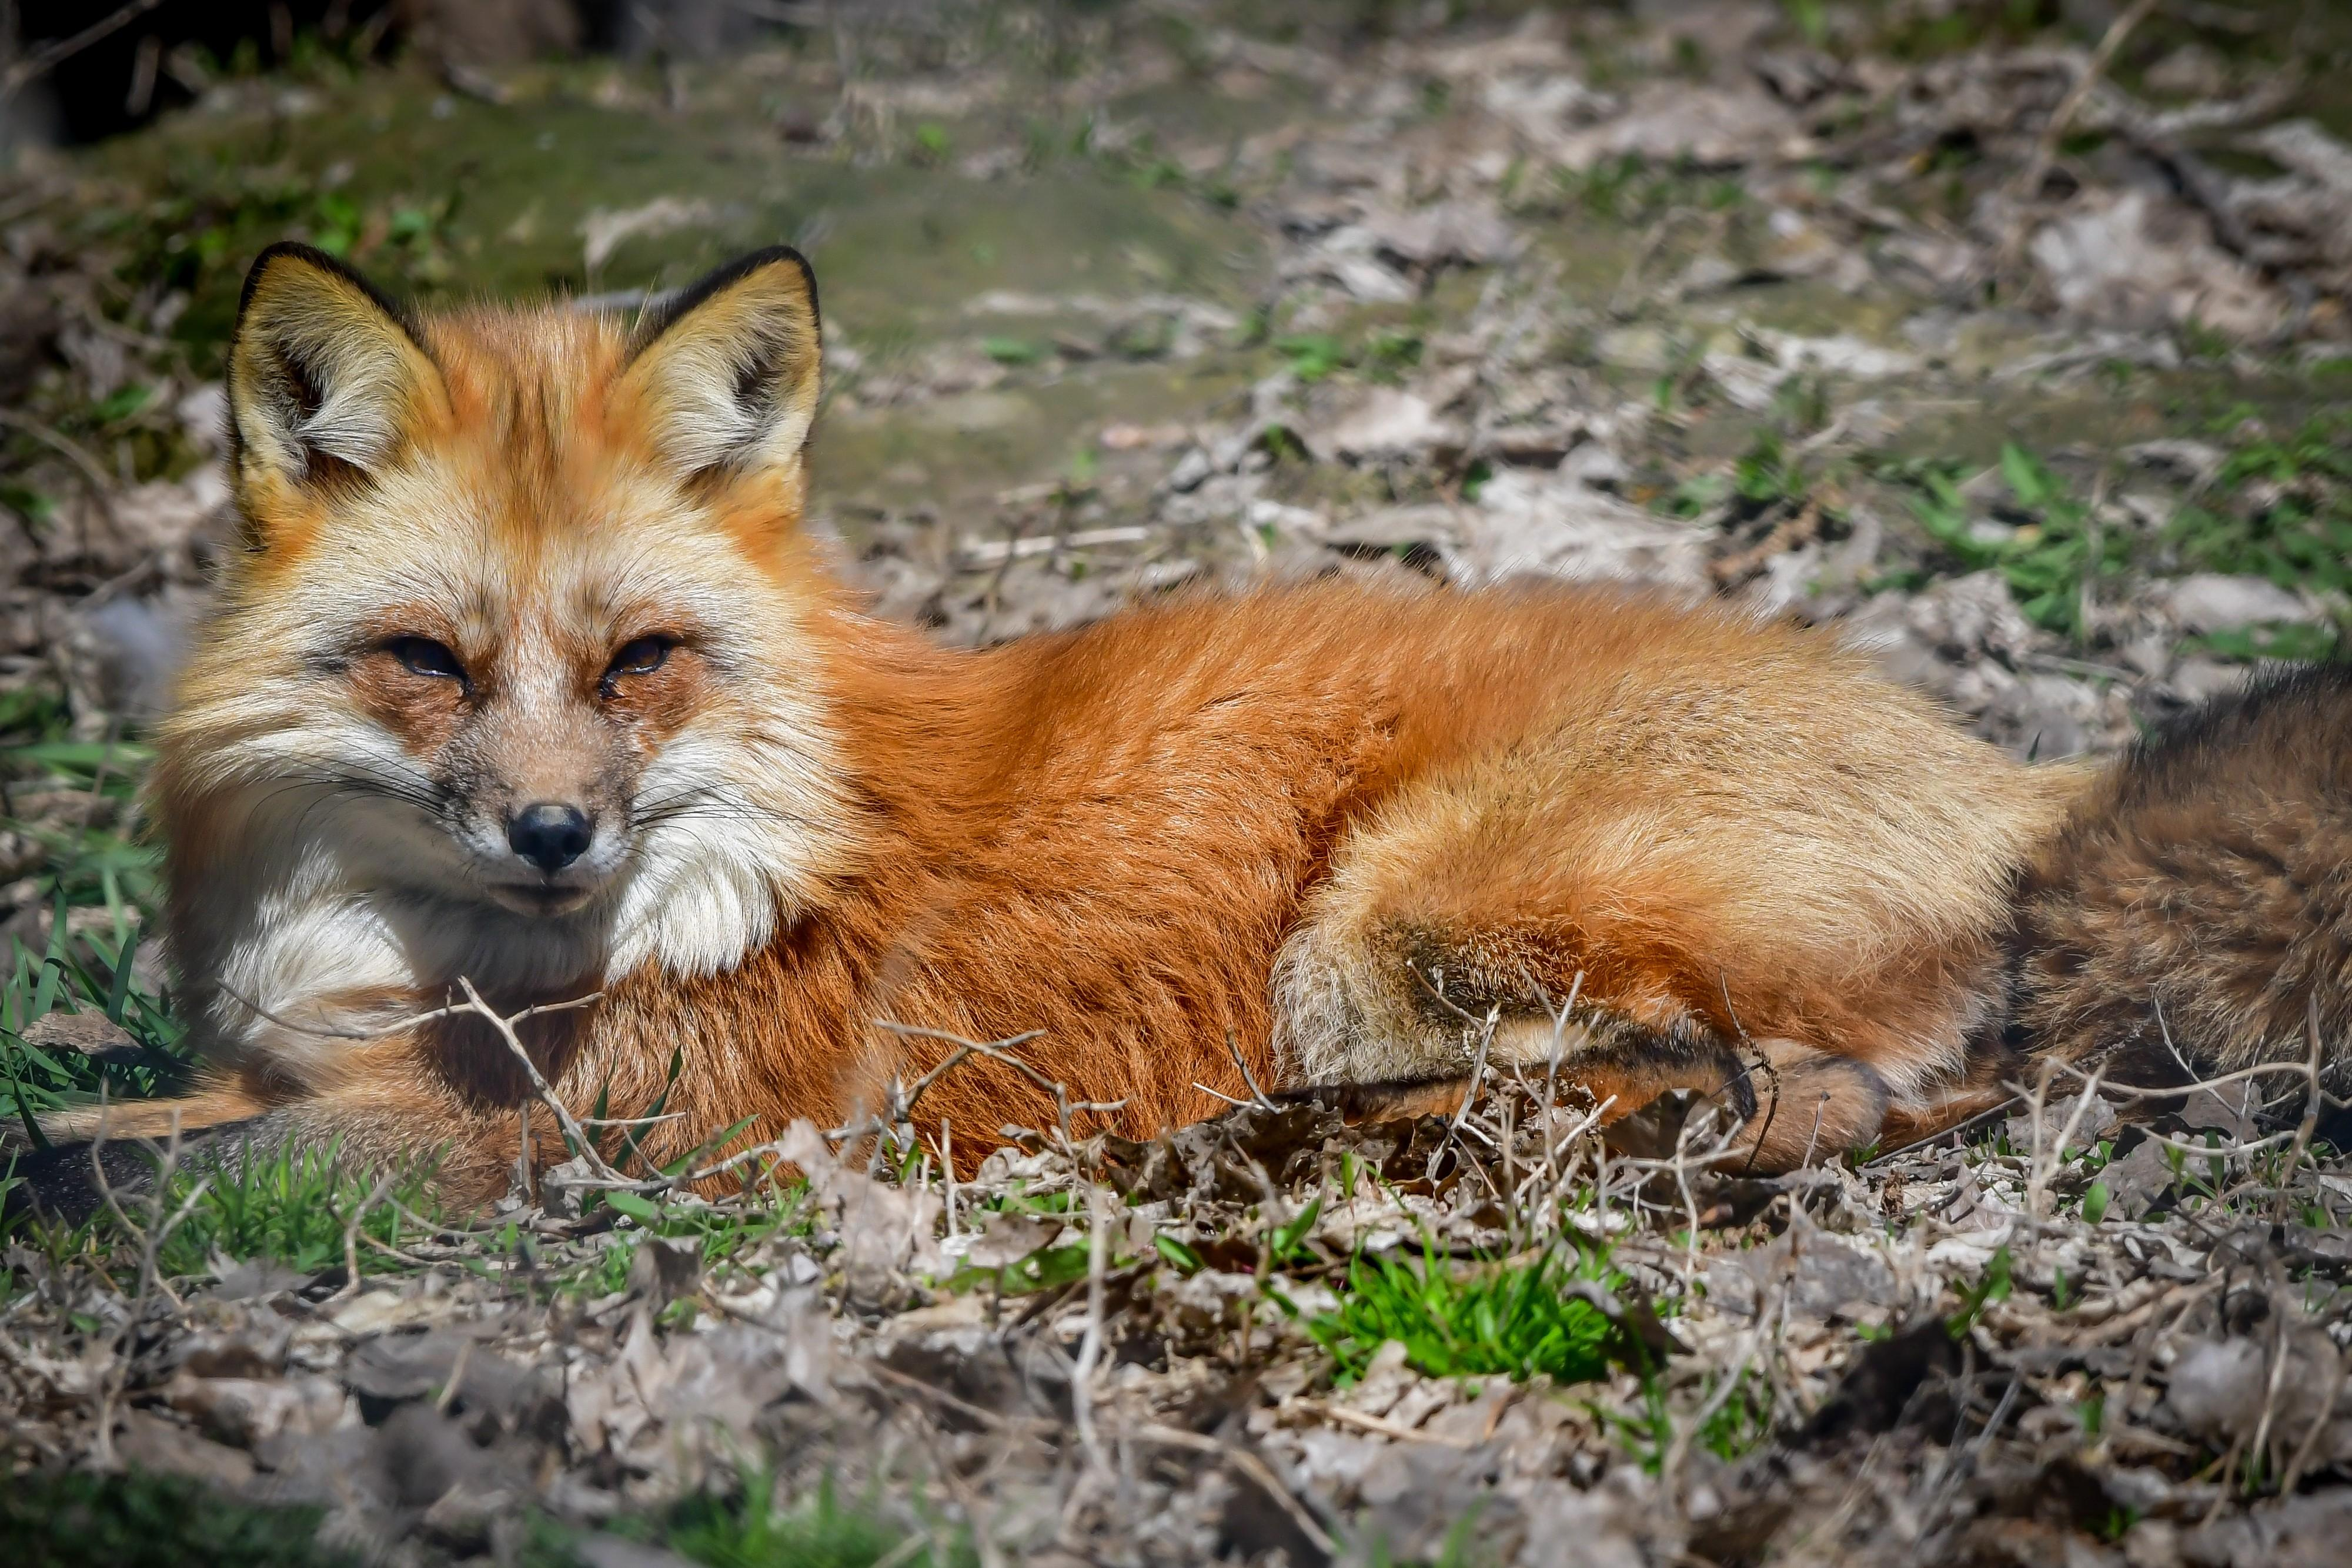fox: (82, 121, 2352, 1433)
